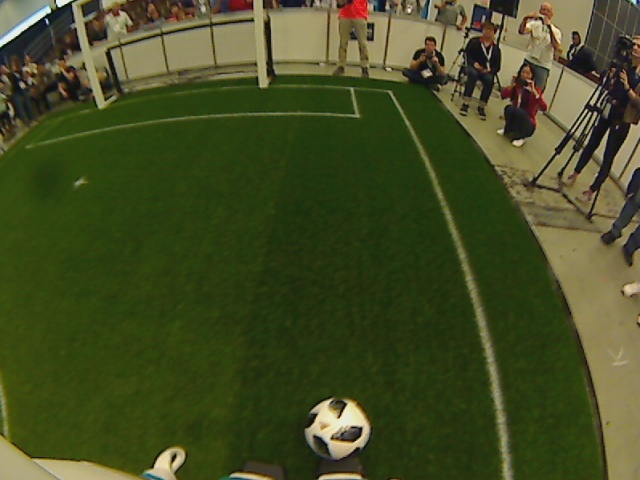ball: (302, 392, 374, 463)
